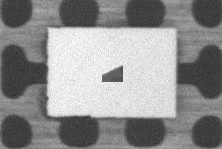DIE_INK: (152, 42, 183, 55)
